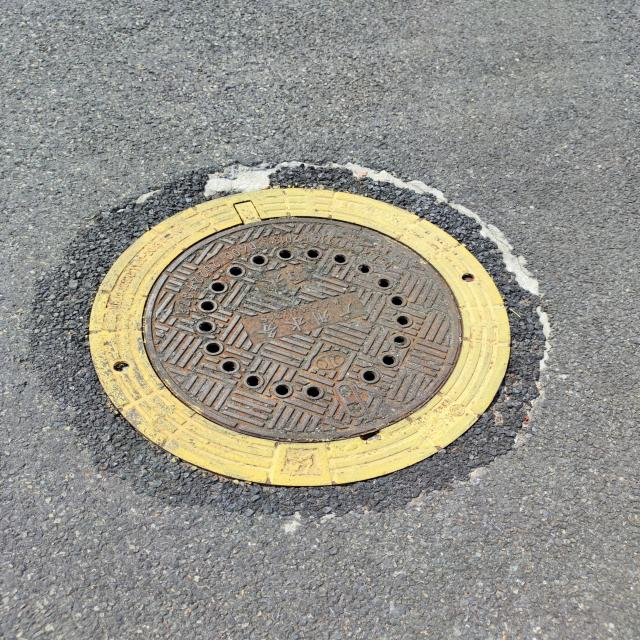Good: (80, 183, 516, 494)
